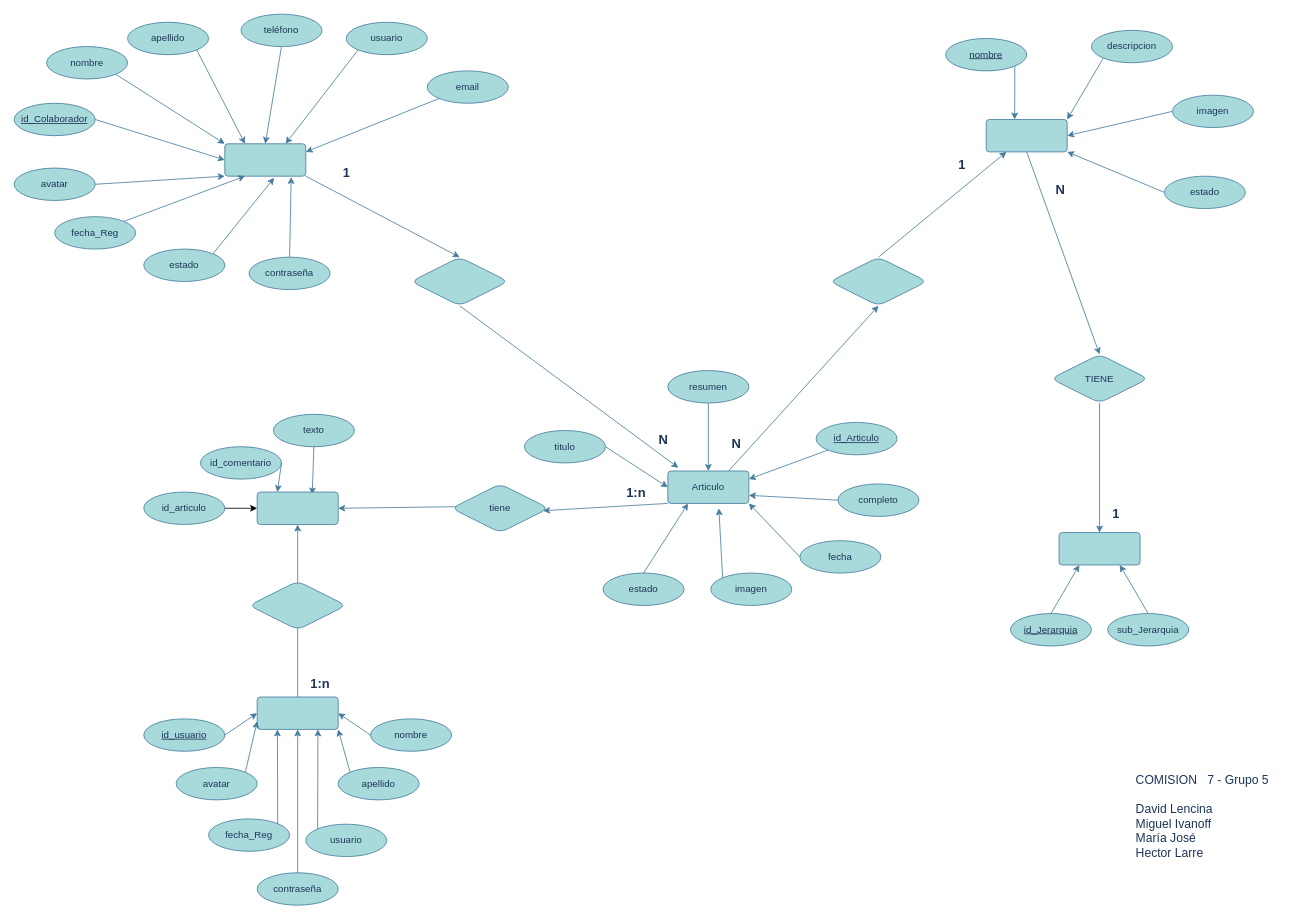
Some shapes in this 1309 by 919 pixel diagram are drawn without their labels. The shapes that lost their labels are listed below. From the top down, each one's box as (x1, y1, x2, y2) in pixels, then its label:
(985, 119, 1067, 152): Categoría
(224, 143, 306, 176): Colaborador
(410, 256, 508, 306): ESCRIBE
(829, 256, 927, 306): INCLUYE
(256, 491, 338, 524): comentarios
(1058, 532, 1140, 565): Jerarquía
(248, 580, 346, 630): realiza
(256, 696, 338, 729): Público
